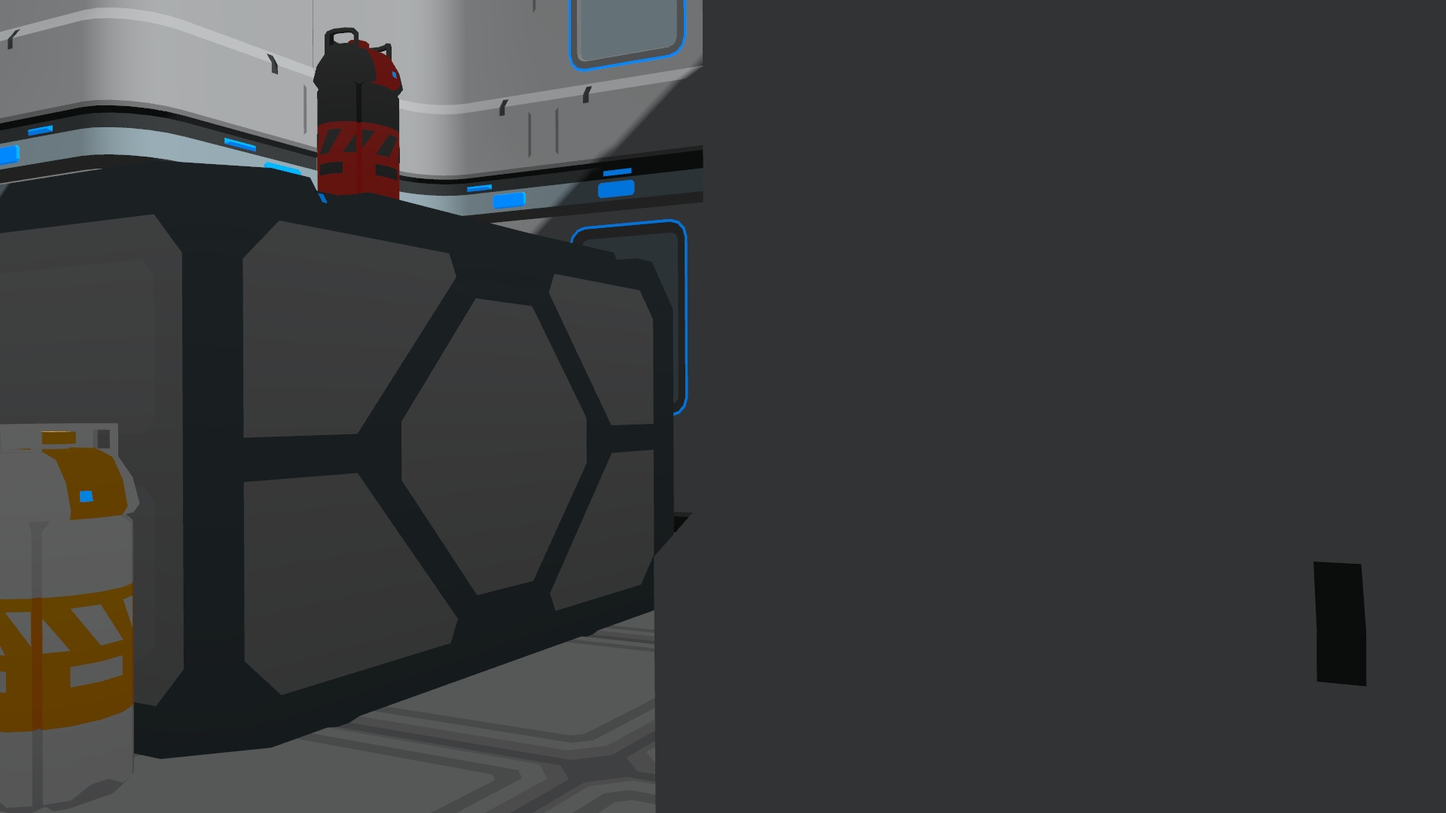red_barrel: (311, 20, 410, 208)
yellow_barrel: (0, 410, 148, 813)
